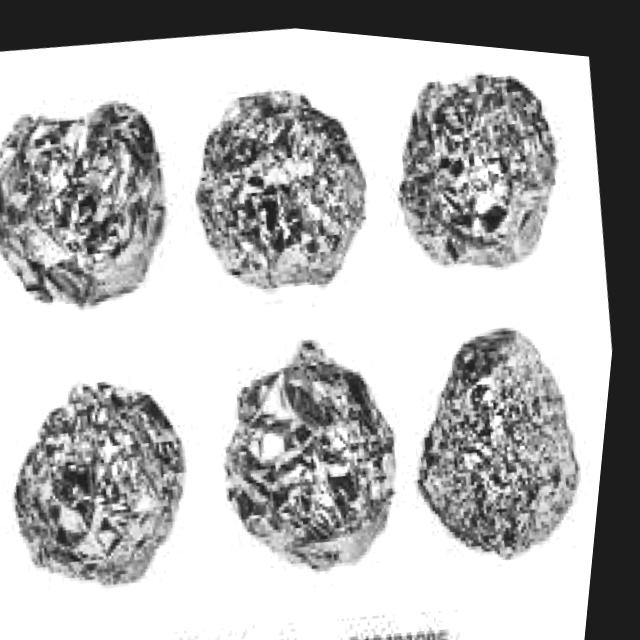Foil: (381, 283, 621, 591), (163, 62, 393, 340), (1, 354, 241, 614), (371, 32, 596, 295), (207, 326, 439, 581), (0, 72, 200, 339)
